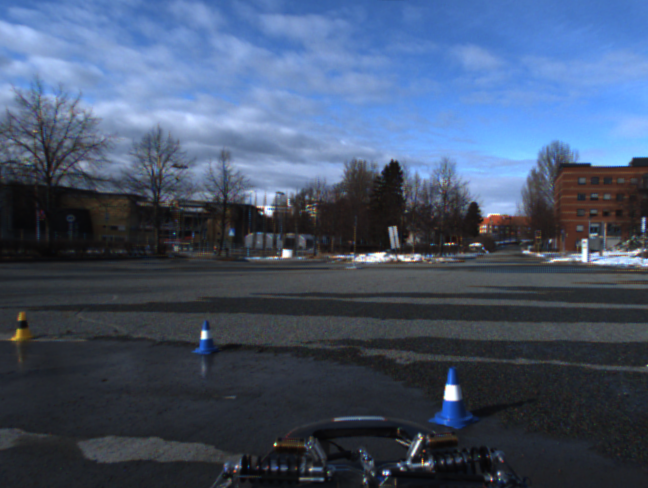cone-small-blue: (428, 367, 480, 429), (191, 319, 220, 354)
cone-small-yellow: (8, 311, 35, 342)
